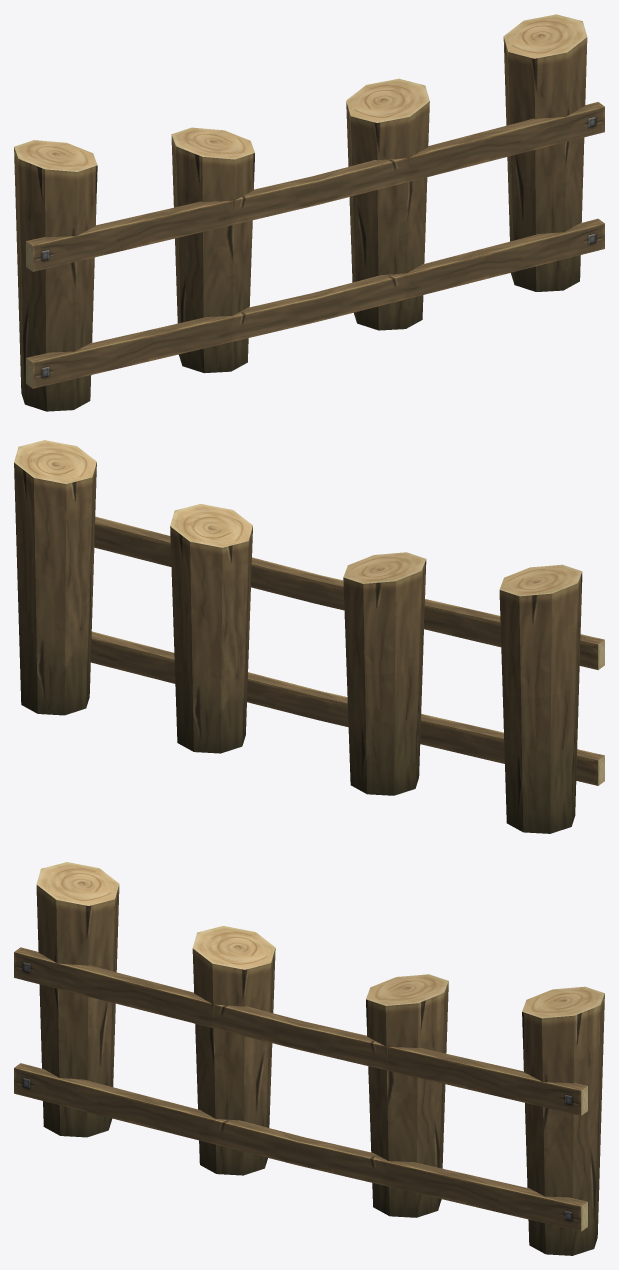
Rendered from wooden_fence_57.fbx.
3 renders of one model, top to bottom at view 1: azimuth 30°, elevation 25°; view 2: azimuth 150°, elevation 25°; view 3: azimuth 330°, elevation 25°, orthographic.
Visible parts, largest first — view 1: wooden_fence_57:Mesh; view 2: wooden_fence_57:Mesh; view 3: wooden_fence_57:Mesh.
Boxes of the visible parts, x1=… form: wooden_fence_57:Mesh: x1=14, y1=14, x2=604, y2=411; wooden_fence_57:Mesh: x1=14, y1=440, x2=604, y2=833; wooden_fence_57:Mesh: x1=14, y1=862, x2=604, y2=1255.
Size of the model in its own units: 6.98 by 2.88 by 0.9226.
